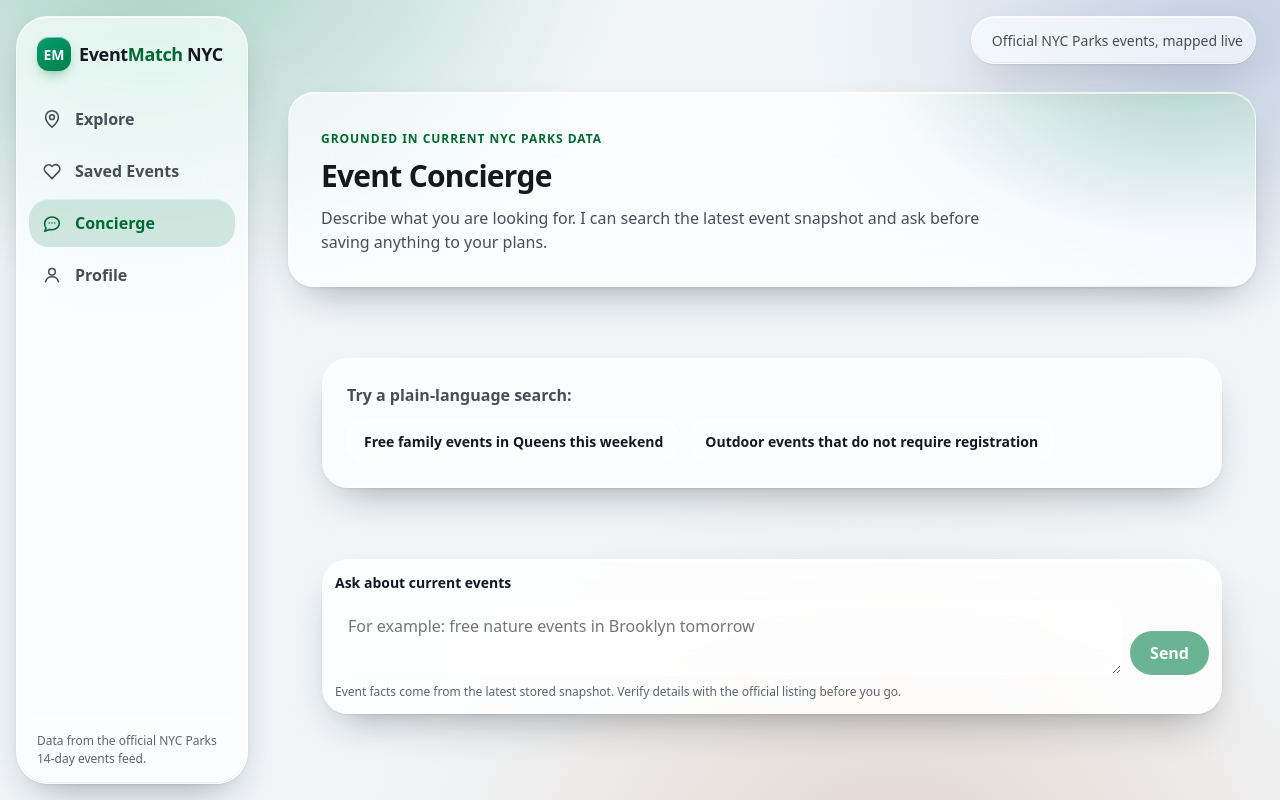
ConciergeView › renders Concierge answers as Markdown
Type "What is on this weekend?" into the text box labelled "Ask about current events" at (729, 638), box 335,601 -> 1122,675
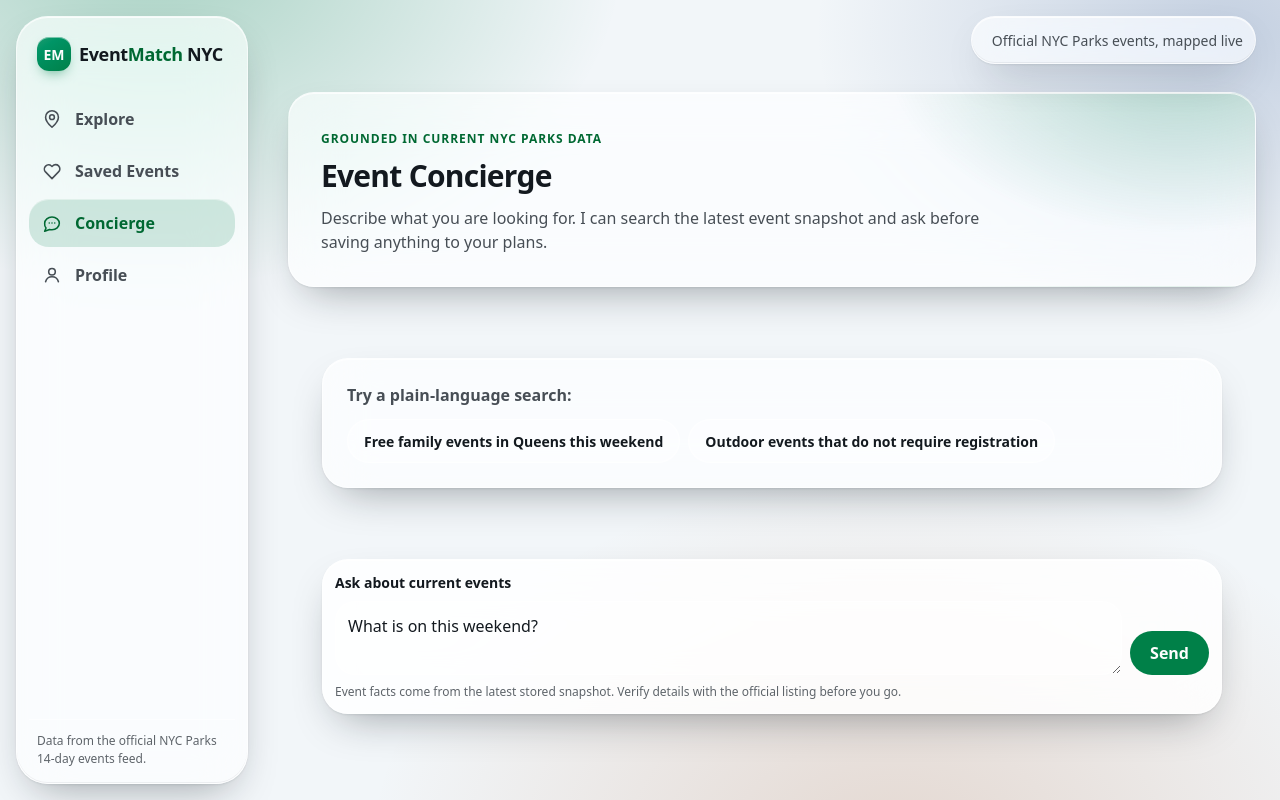
Click the button "Send" at (1170, 653), box 1130,631 -> 1209,675
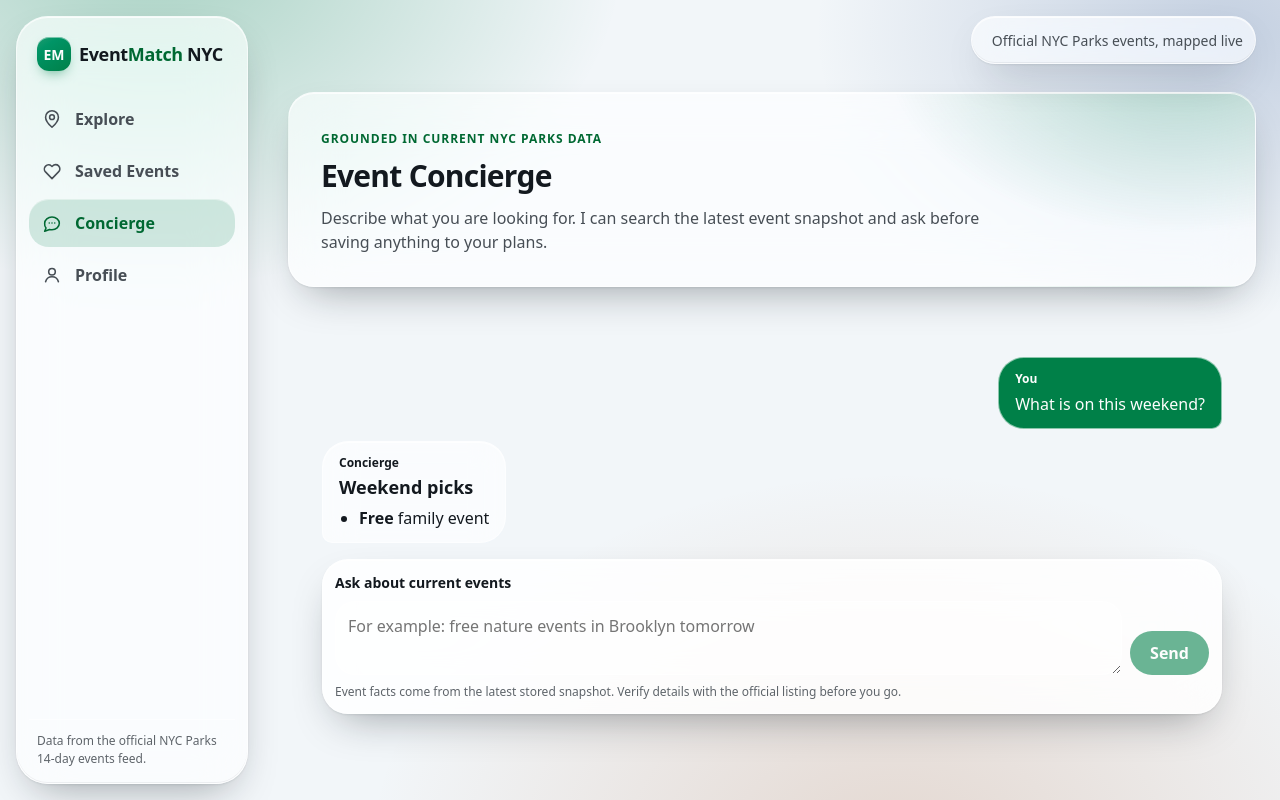
Expected: the list item "Free family event" is shown, 359,506 -> 489,530
Expected: the heading "Weekend picks" is shown, 339,476 -> 489,498
